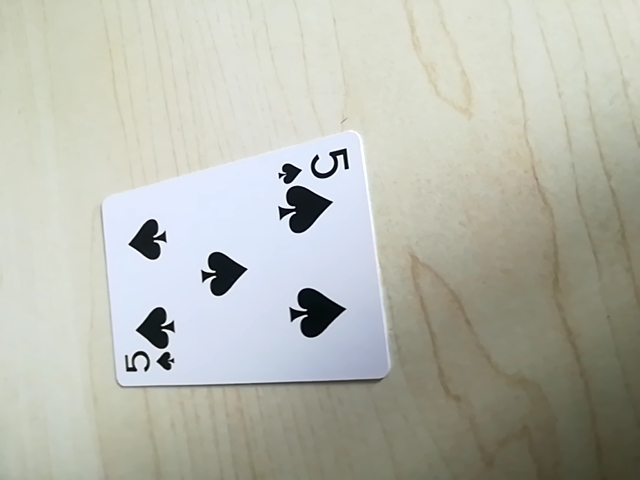ht 5: (277, 145, 355, 185), (115, 346, 181, 384)
